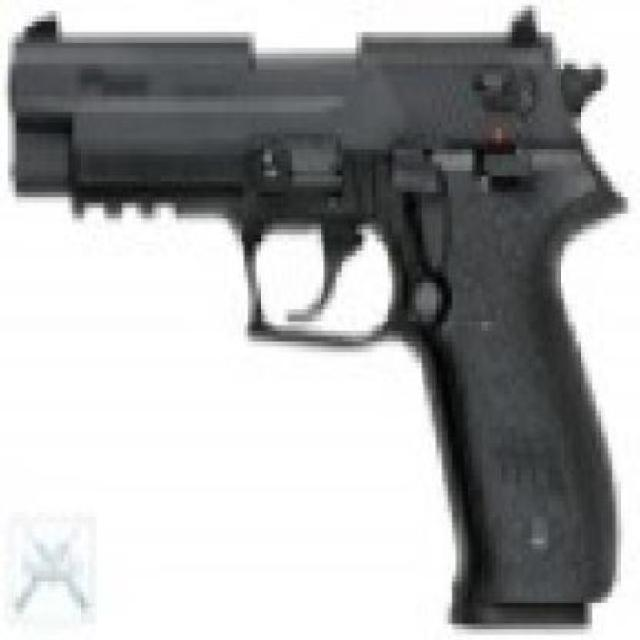gun: (8, 6, 624, 634)
